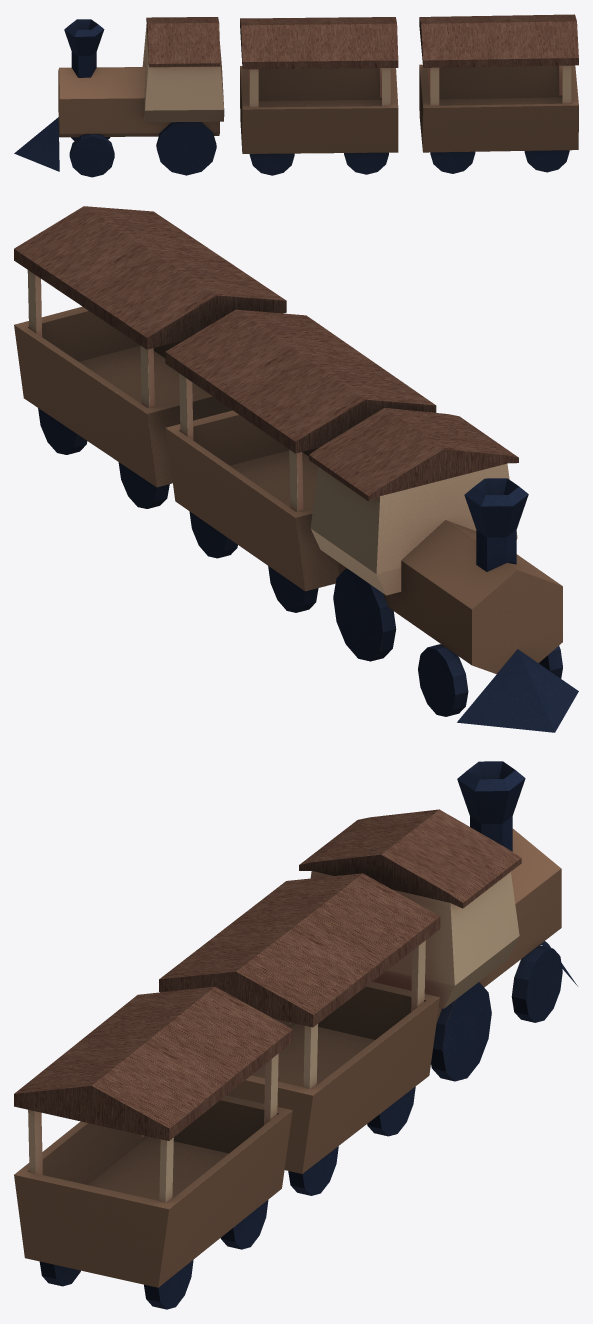
The model's file is 3P_Train.glb.
3 views of the same model, one above another, from view 1: azimuth 30°, elevation 25°; view 2: azimuth 150°, elevation 25°; view 3: azimuth 270°, elevation 25° (orthographic). The views are drawn at different scales.
Visible parts, largest first — view 1: Train.Chasis.Car2, Train.Chasis.Car1, Train.Chasis.Engine; view 2: Train.Chasis.Engine, Train.Chasis.Car2, Train.Chasis.Car1; view 3: Train.Chasis.Car2, Train.Chasis.Car1, Train.Chasis.Engine.
Part boxes in pixels (box(x1,y1,x2,y2)): Train.Chasis.Car2: box(419, 14, 578, 173); Train.Chasis.Car1: box(240, 17, 398, 175); Train.Chasis.Engine: box(14, 17, 224, 177); Train.Chasis.Engine: box(309, 408, 578, 732); Train.Chasis.Car2: box(14, 206, 286, 508); Train.Chasis.Car1: box(165, 309, 436, 612); Train.Chasis.Car2: box(14, 986, 292, 1309); Train.Chasis.Car1: box(159, 873, 440, 1195); Train.Chasis.Engine: box(299, 761, 577, 1081).
Bounding box in the file's own units: 3.94 × 1.15 × 2.52.
Materials: 2 (2 with a texture image).
